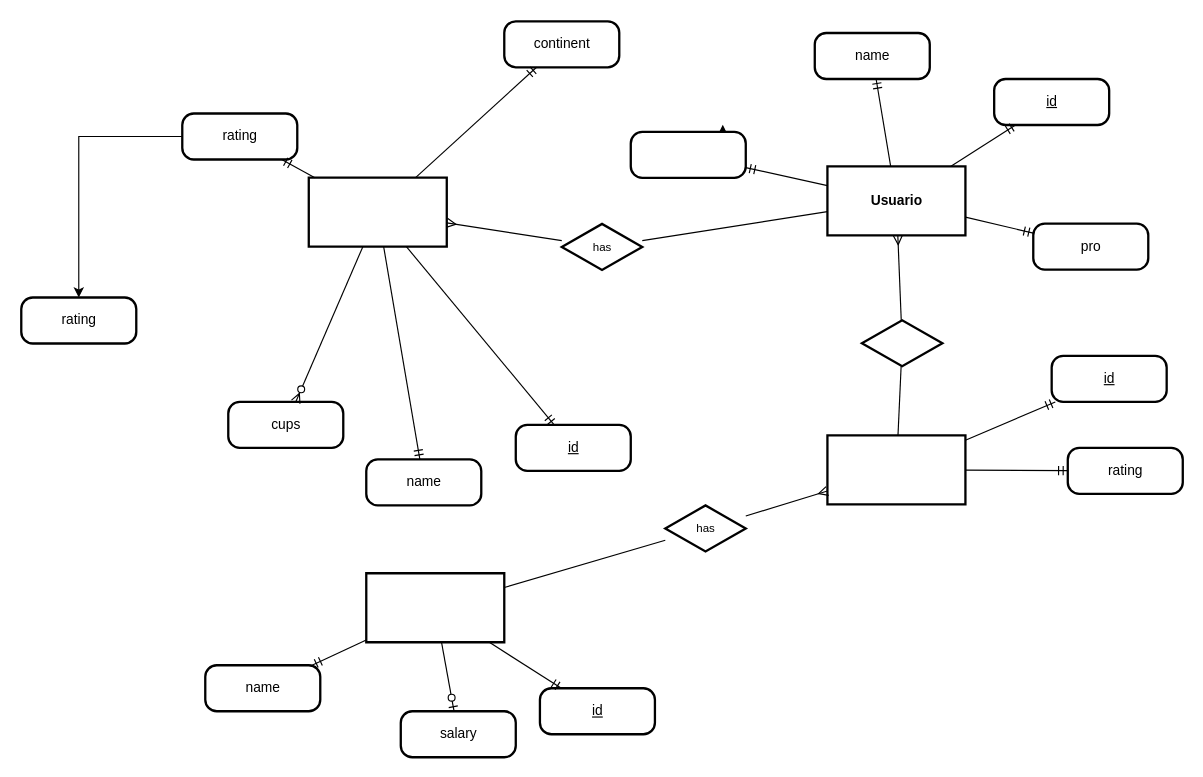
This 1203x777 diagram has some shape labels left out. The centre of each missing label's shape, as x and y in pixels:
class: the point at 687,154
Manager: the point at 435,607
País: the point at 896,469
State: the point at 377,211
tiene: the point at 901,343
